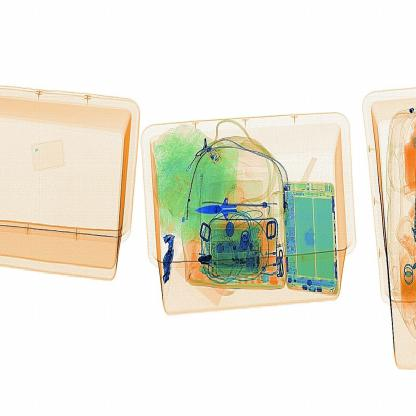gun: (180, 179, 260, 229)
